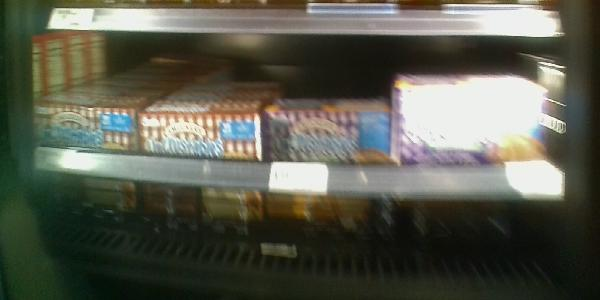icecream: (398, 78, 546, 166), (265, 103, 395, 168), (137, 109, 266, 163), (29, 101, 139, 156)
